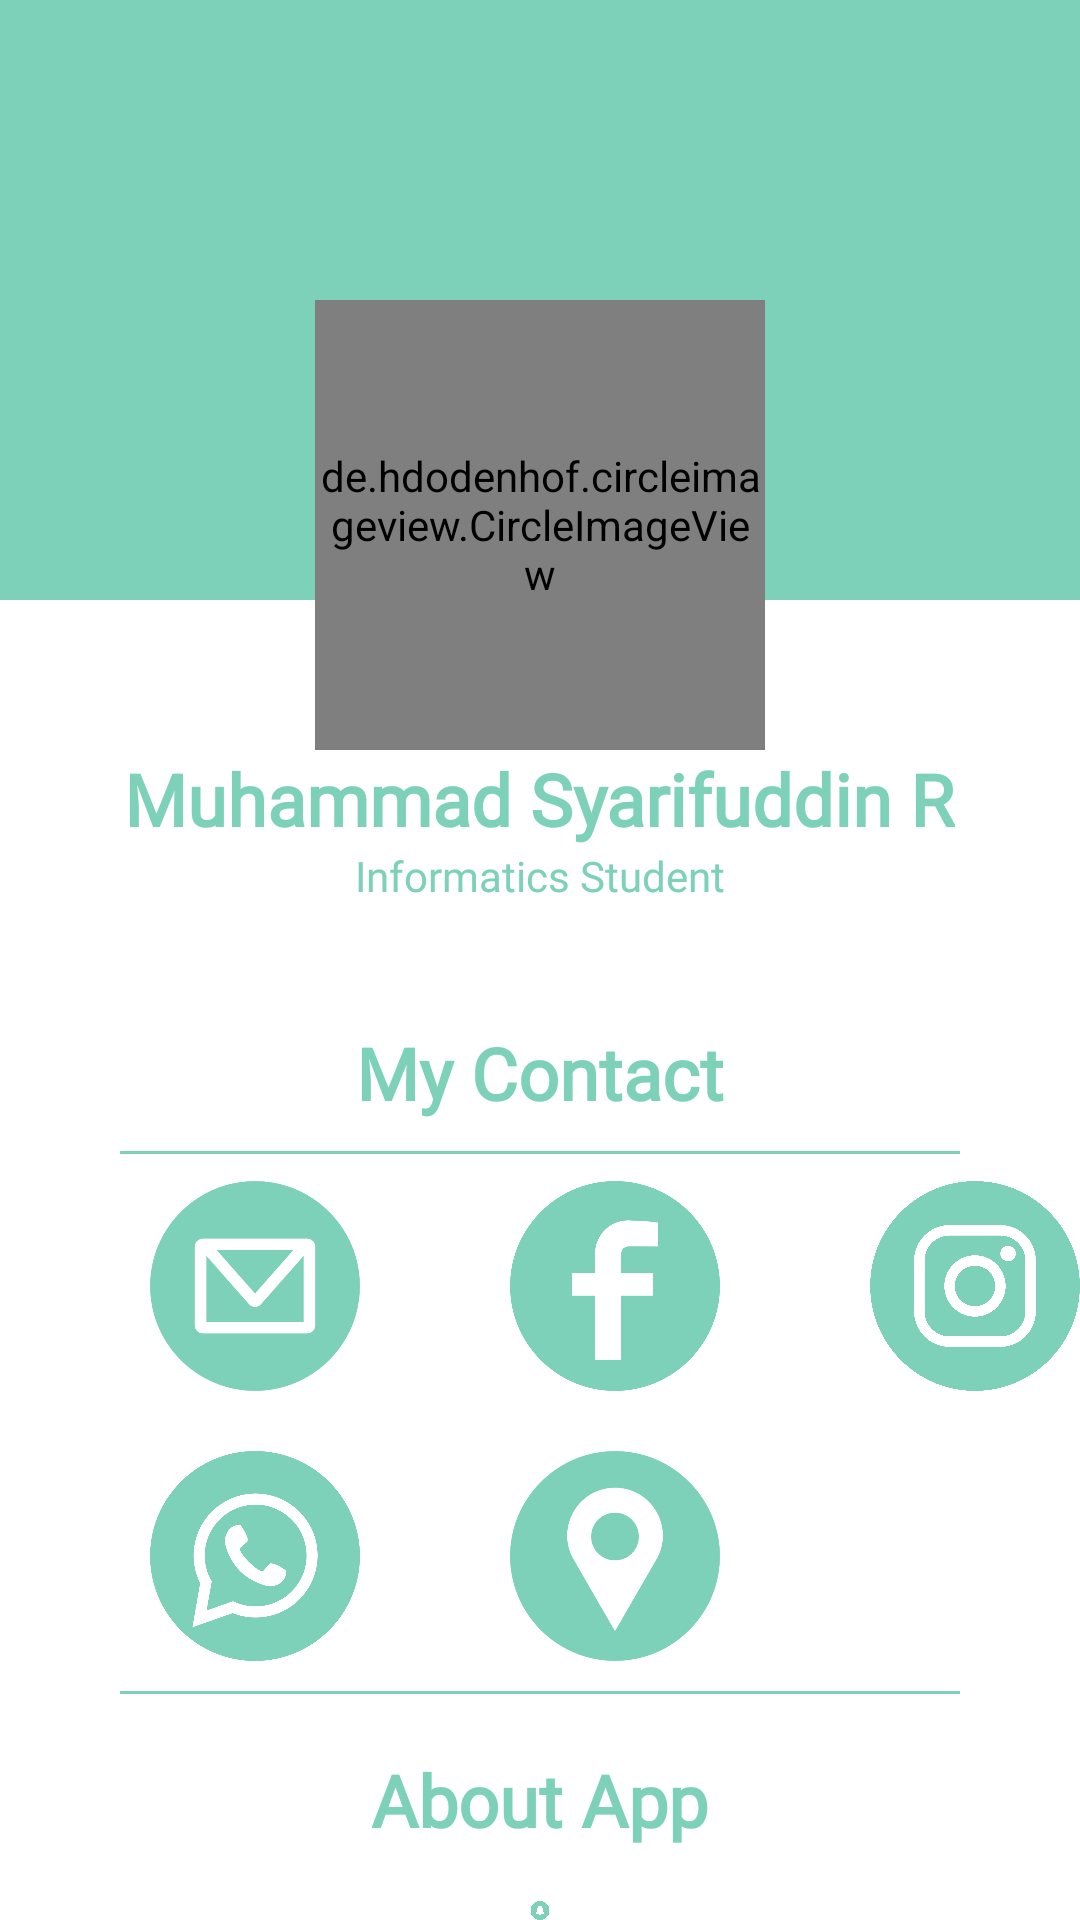

Screen size 1080×1920. Icon name, then its center in pixels as [x,y]:
email: [255,1286]
location: [615,1556]
